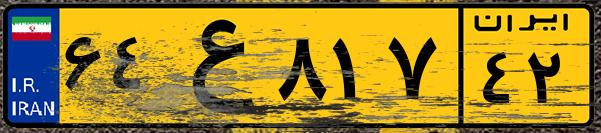1: (330, 28, 385, 110)
2: (525, 38, 570, 115)
4: (475, 38, 525, 113), (110, 28, 158, 98)
6: (57, 26, 110, 100)
7: (385, 28, 445, 110)
8: (270, 28, 330, 110)
ع: (158, 12, 270, 120)
